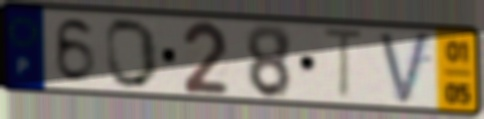2: (180, 18, 232, 98)
6: (52, 16, 99, 86)
8: (243, 21, 295, 102)
O: (103, 16, 161, 91)
T: (319, 25, 368, 104)
V: (376, 29, 434, 110)
